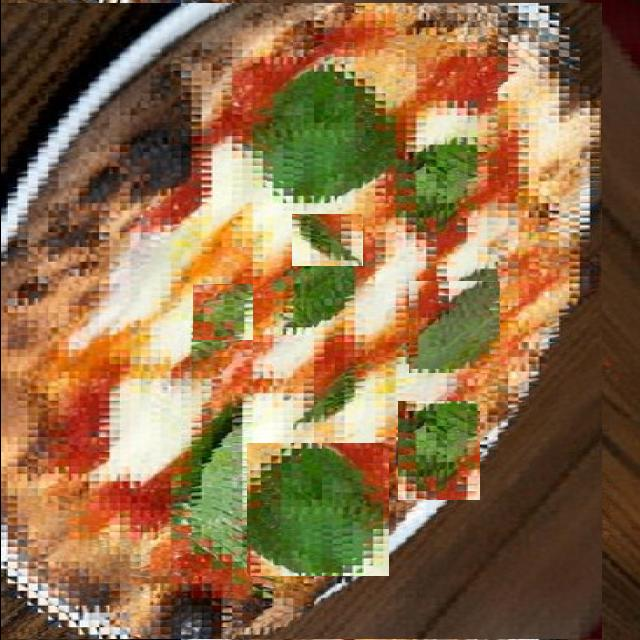basil: (245, 443, 388, 576), (172, 59, 266, 246), (406, 281, 498, 373), (397, 401, 479, 500), (281, 310, 360, 394), (284, 316, 359, 392), (291, 214, 362, 266), (192, 284, 252, 340), (266, 351, 282, 363)
pizza: (0, 3, 601, 639)
